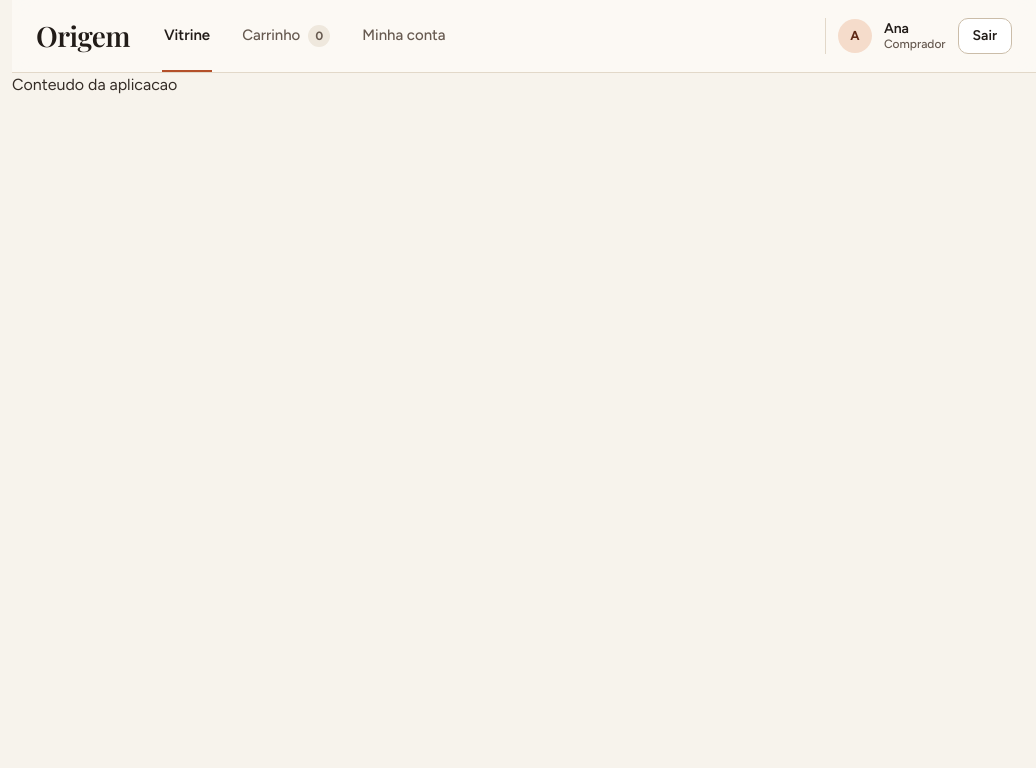
Scenario: GateAcesso › confirmar a saida desloga e volta a pedir a escolha
Click the button "Sair": (985, 36) [958,18,1012,54]
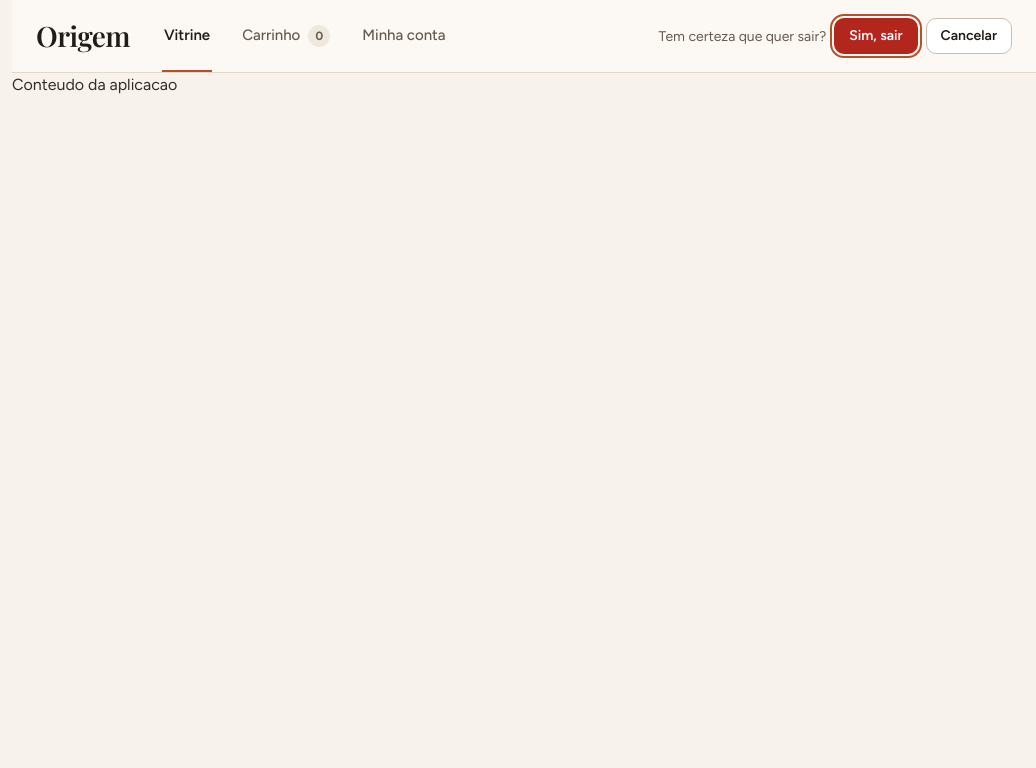
Click the button "Sim, sair": (876, 36) [834,18,918,54]
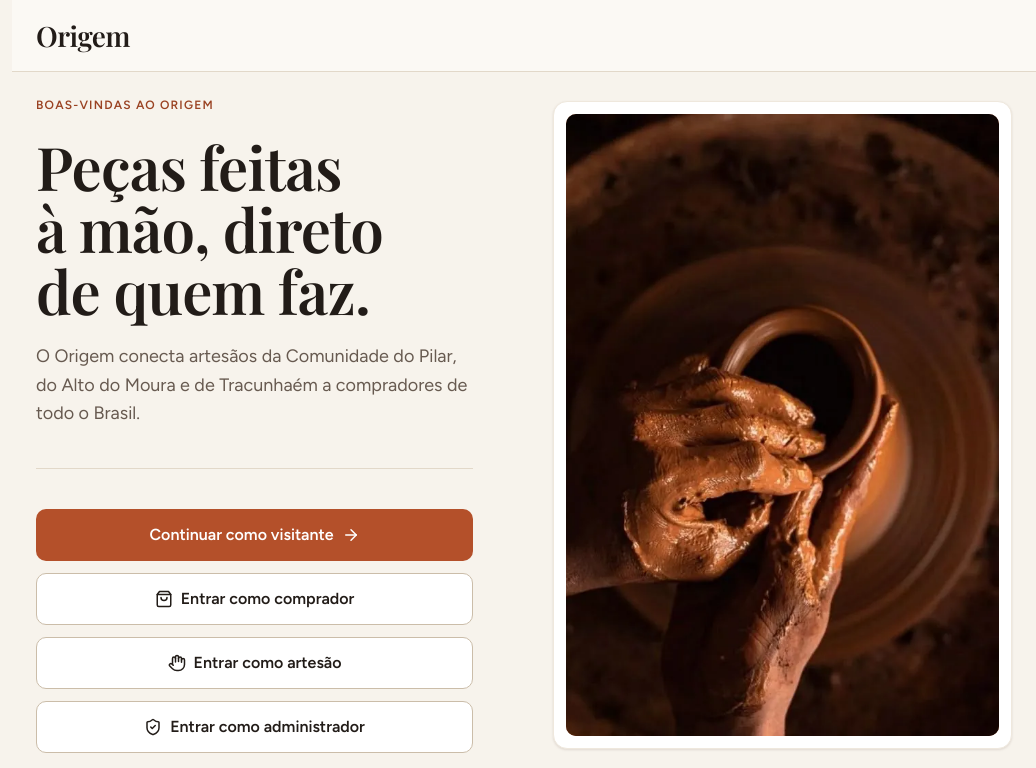
Result: the heading "Peças feitas à mão, direto de quem faz." is shown at [36,126,383,330]
Result: the text "Conteudo da aplicacao" is gone
